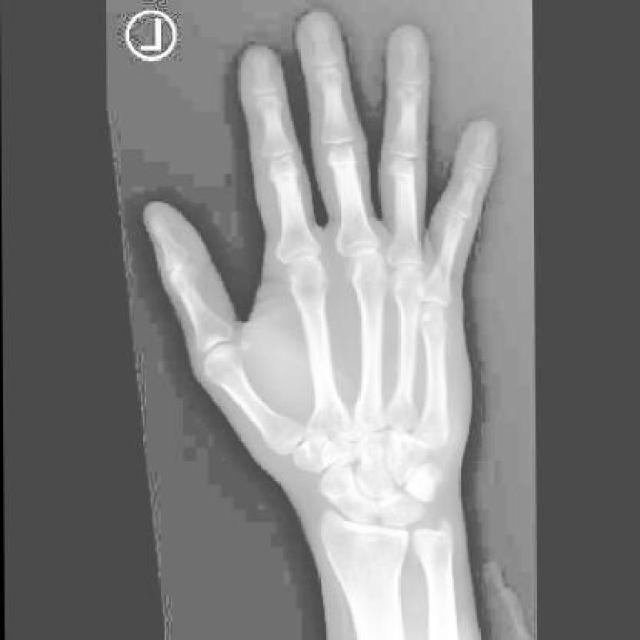Fracture: (396, 431, 414, 456)
